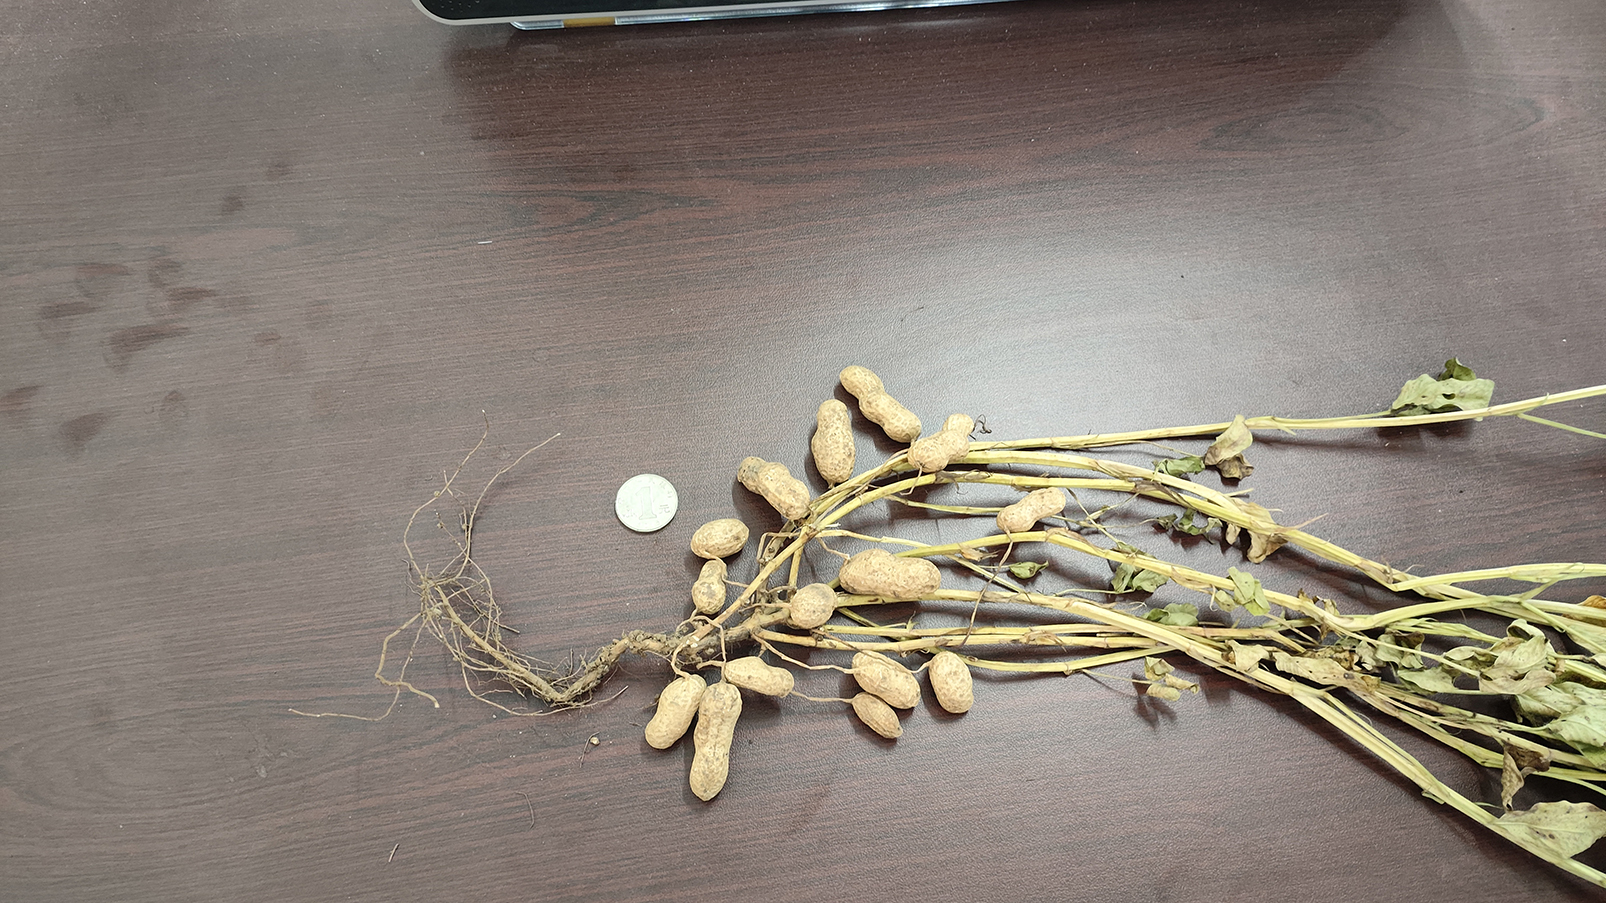h: (839, 365, 922, 442), (689, 680, 742, 800), (837, 547, 942, 596), (645, 673, 707, 750), (738, 454, 809, 519), (852, 649, 921, 708), (908, 413, 974, 471), (811, 397, 854, 480), (997, 487, 1067, 531), (724, 654, 795, 696), (928, 651, 973, 713), (690, 516, 750, 557), (853, 692, 904, 737), (791, 582, 837, 627), (690, 557, 726, 612)
